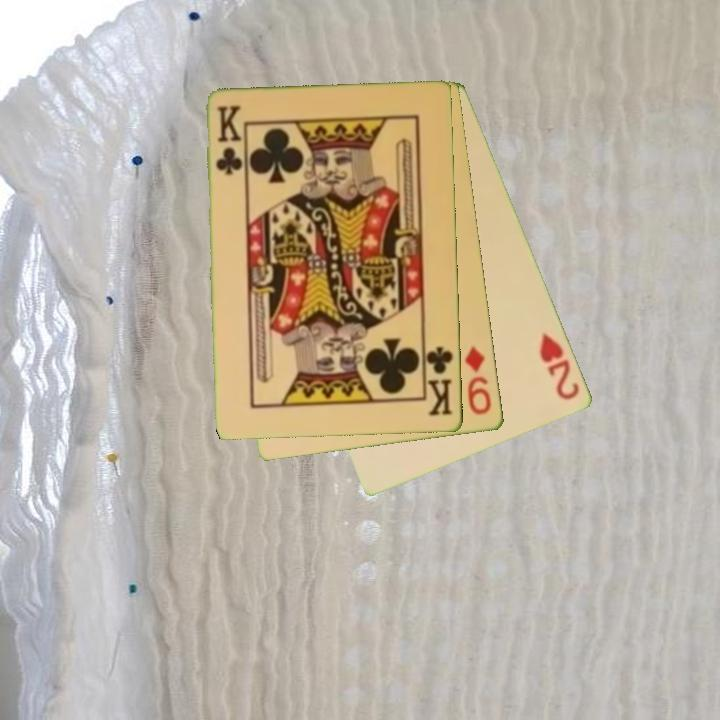2h: (536, 329, 584, 403)
9d: (462, 343, 495, 418)
Kc: (422, 339, 456, 419), (212, 102, 244, 178)
